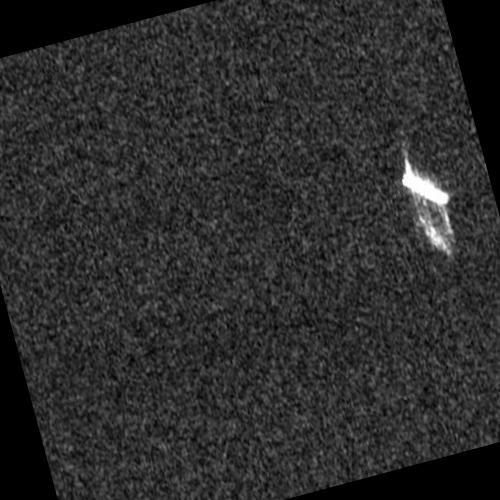ship: (402, 169, 449, 208)
